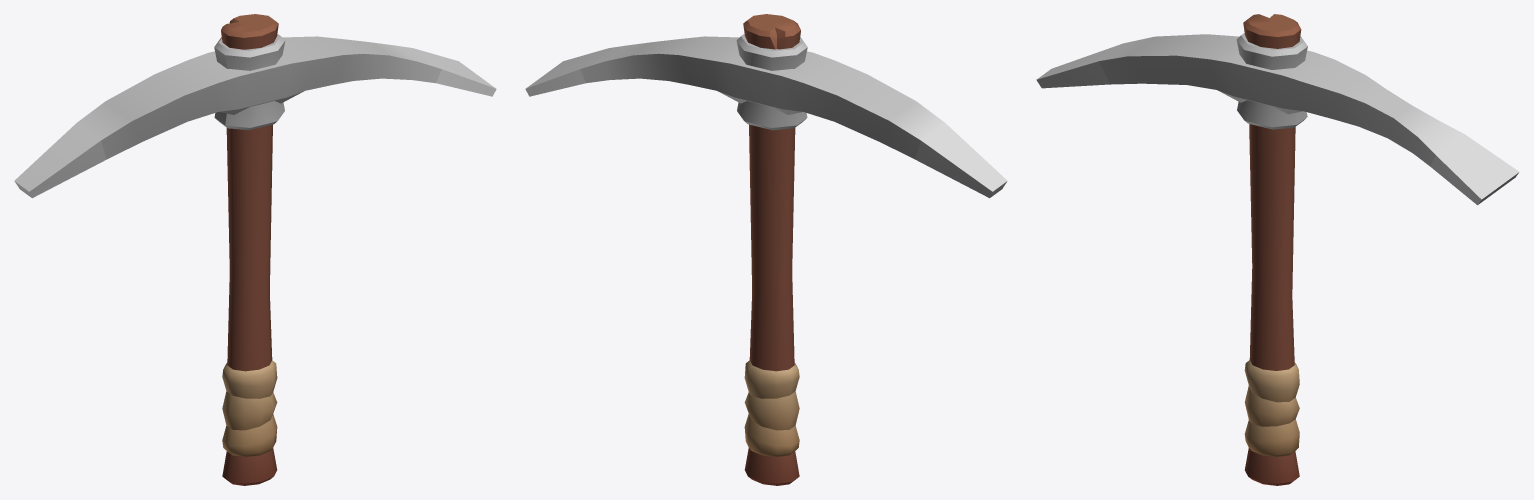
The model's file is pickaxe.glb.
3 renders of one model, left to right at view 1: azimuth 30°, elevation 25°; view 2: azimuth 150°, elevation 25°; view 3: azimuth 330°, elevation 25°, orthographic.
Parts seen in each view (by area): view 1: pickaxe; view 2: pickaxe; view 3: pickaxe.
Boxes of the visible parts, left/top/right/bottom form: pickaxe: left=14, top=14, right=496, bottom=485; pickaxe: left=525, top=14, right=1007, bottom=485; pickaxe: left=1036, top=14, right=1519, bottom=485.
Bounding box in the file's own units: 1.45 × 1.39 × 0.2084.
